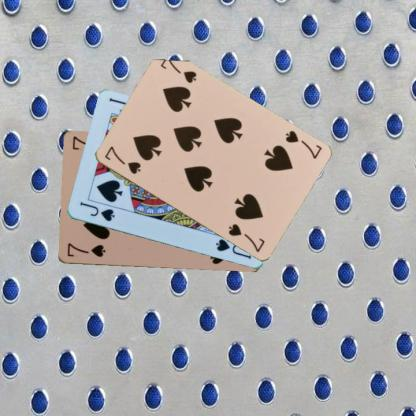7s: (282, 127, 323, 160), (102, 143, 142, 176), (64, 240, 106, 258)
Js: (77, 199, 116, 223)
